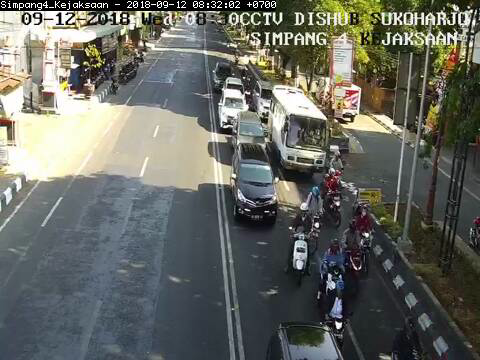motor: (286, 202, 318, 287), (321, 280, 349, 349), (340, 217, 362, 293), (318, 168, 342, 222), (304, 187, 322, 255), (356, 203, 374, 268), (320, 239, 346, 282)
